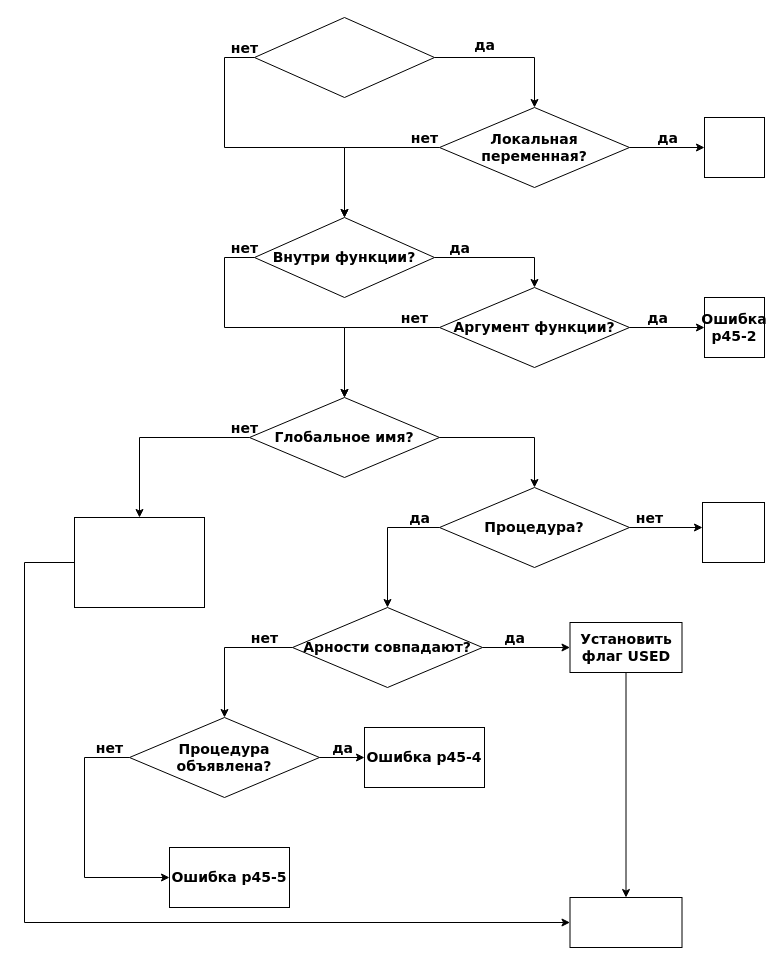
This 784x965 diagram has some shape labels left out. Here are the shapes that lost their labels. From the top down, the centre of each, then its label:
the point at 344,57: Внутри тела let?
the point at 734,147: Ошибка p45-1
the point at 733,532: Ошибка p45-3
the point at 139,562: Добавить глобальное имя name, с флагами PROC |USED, и арностью COUNT
the point at 625,922: OK
